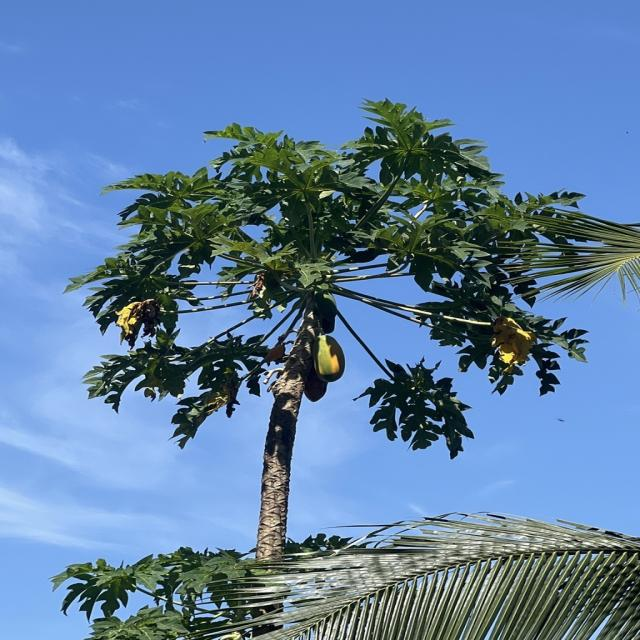Papaya-Tree: (42, 82, 640, 530)
